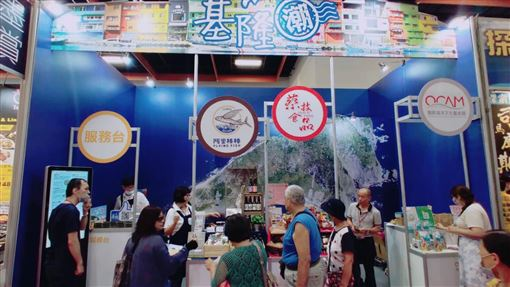people: (280, 184, 327, 287), (446, 184, 492, 287), (52, 180, 90, 287), (131, 209, 178, 287), (349, 186, 385, 287), (217, 215, 267, 287), (323, 199, 358, 287), (167, 188, 196, 251), (480, 231, 510, 287), (116, 179, 150, 222)
